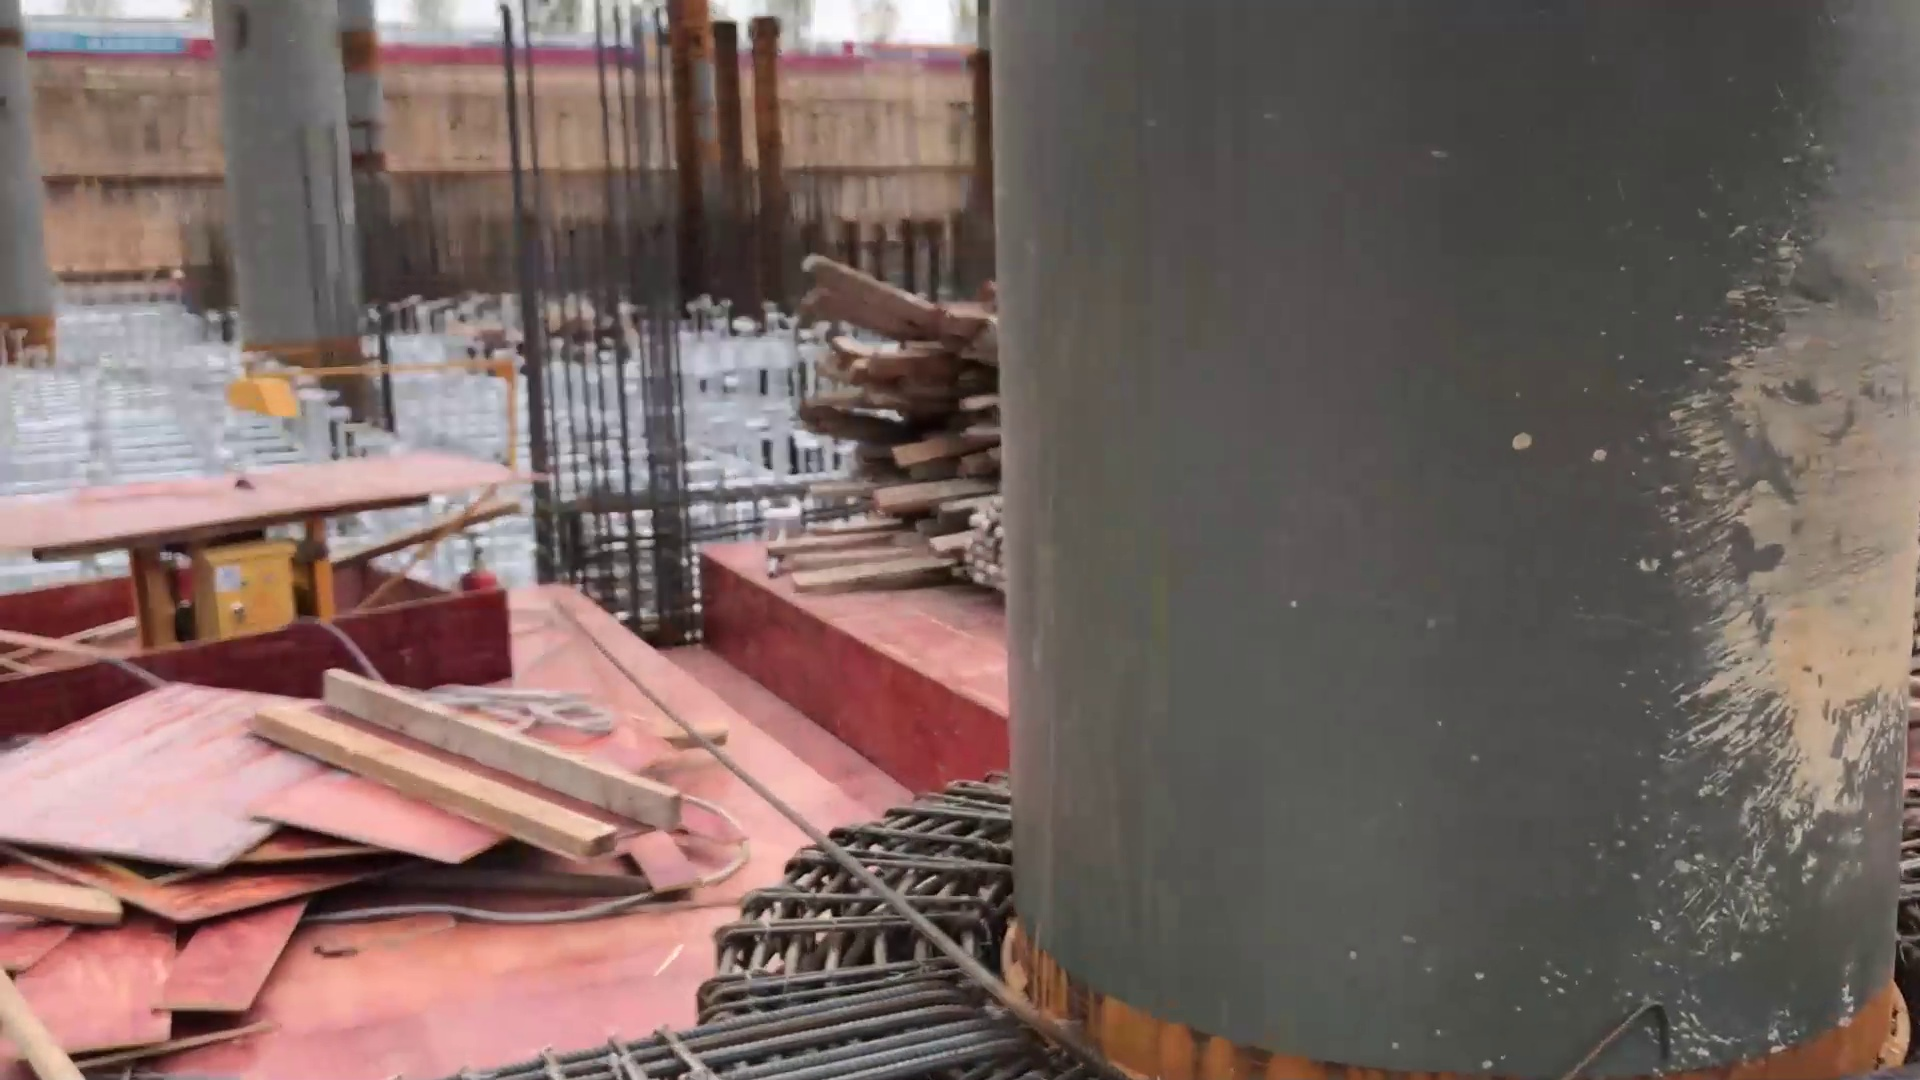cutter: (1, 436, 543, 562)
ebox: (211, 535, 298, 607)
wood: (756, 277, 989, 621)
